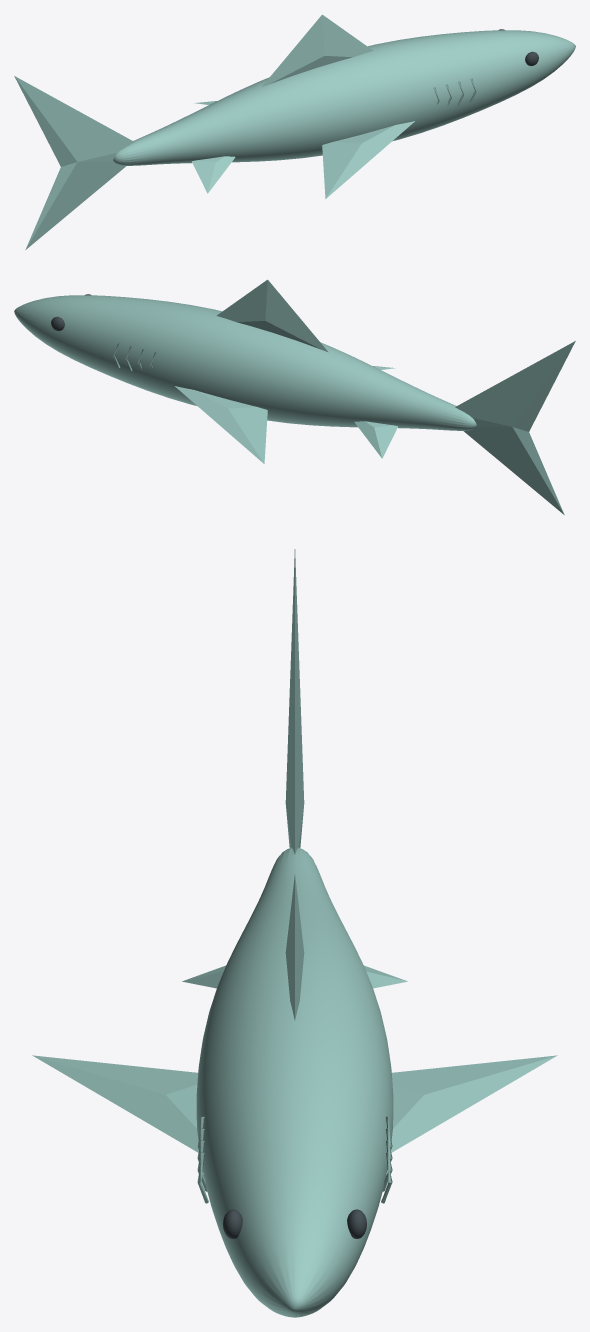
The picture shows the model from 3 angles, top to bottom: view 1: azimuth 30°, elevation 25°; view 2: azimuth 150°, elevation 25°; view 3: azimuth 270°, elevation 25°; orthographic projection. The views are drawn at different scales.
Parts seen in each view (by area): view 1: Body, Tail, Dorsal, Pectoral, Pelvic; view 2: Body, Tail, Dorsal, Pectoral.001, Pelvic.001; view 3: Body, Pectoral.001, Pectoral, Tail, Dorsal.
Part boxes in pixels (x1,y1,x2,y2): Body: [113, 30, 575, 165]; Tail: [14, 76, 134, 249]; Dorsal: [261, 14, 373, 87]; Pectoral: [322, 121, 414, 198]; Pelvic: [192, 156, 235, 193]; Body: [14, 295, 476, 430]; Tail: [455, 341, 575, 514]; Dorsal: [216, 279, 328, 352]; Pectoral.001: [175, 386, 267, 463]; Pelvic.001: [354, 421, 397, 458]; Body: [196, 847, 393, 1317]; Pectoral.001: [391, 1055, 557, 1152]; Pectoral: [32, 1055, 198, 1152]; Tail: [285, 549, 304, 854]; Dorsal: [285, 875, 304, 1020].
Size of the model in its own units: 252 by 76 by 102.
